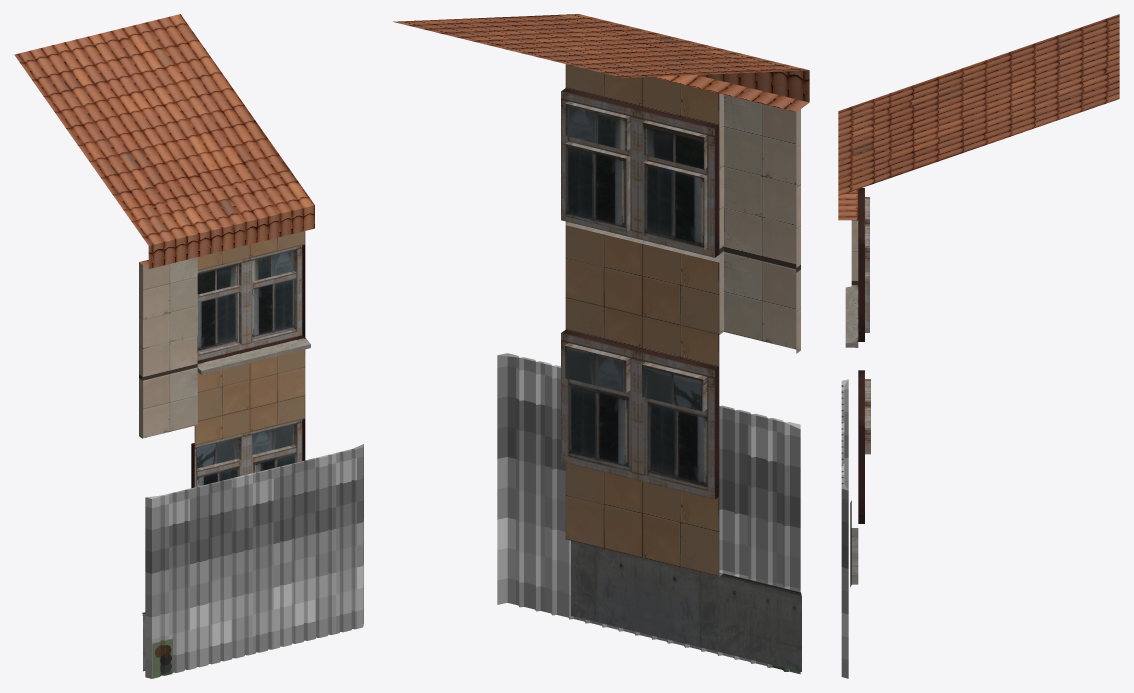
The model's file is bz_bgBuilding_TrainStation_01.fbx.
3 views of the same model, side by side, from view 1: azimuth 30°, elevation 25°; view 2: azimuth 150°, elevation 25°; view 3: azimuth 270°, elevation 25° (orthographic). The views are drawn at different scales.
Visible parts, largest first — view 1: bz_bgBuilding_TrainStation_003, bz_fence_profile_02, bz_bgBuilding_TrainStation_001, bz_bgBuilding_TrainStation_002, bz_bgBuilding_TrainStation_004; view 2: bz_bgBuilding_TrainStation_004, bz_bgBuilding_TrainStation_001, bz_fence_profile_02, bz_bgBuilding_TrainStation_002, bz_bgBuilding_TrainStation_003, bz_bgBuilding_TrainStation_005, bz_bgBuilding_TrainStation_006; view 3: bz_bgBuilding_TrainStation_003, bz_bgBuilding_TrainStation_001, bz_fence_profile_02, bz_bgBuilding_TrainStation_004, bz_bgBuilding_TrainStation_002, bz_bgBuilding_TrainStation_005.
Boxes of the visible parts, x1,y1,x2,y2 form: bz_bgBuilding_TrainStation_003: (14,14,314,268); bz_fence_profile_02: (145,444,363,678); bz_bgBuilding_TrainStation_001: (197,231,310,421); bz_bgBuilding_TrainStation_002: (139,257,197,438); bz_bgBuilding_TrainStation_004: (191,396,305,487); bz_bgBuilding_TrainStation_004: (561,298,719,576); bz_bgBuilding_TrainStation_001: (561,64,723,334); bz_fence_profile_02: (497,353,800,674); bz_bgBuilding_TrainStation_002: (719,93,800,353); bz_bgBuilding_TrainStation_003: (393,14,809,112); bz_bgBuilding_TrainStation_005: (571,540,724,653); bz_bgBuilding_TrainStation_006: (724,573,801,671); bz_bgBuilding_TrainStation_003: (838,14,1119,220); bz_bgBuilding_TrainStation_001: (845,188,869,347); bz_fence_profile_02: (841,379,848,678); bz_bgBuilding_TrainStation_004: (858,370,870,523); bz_bgBuilding_TrainStation_002: (851,220,858,286); bz_bgBuilding_TrainStation_005: (850,528,858,586).
Size of the model in its own units: 3.97 by 9.1 by 4.2.
